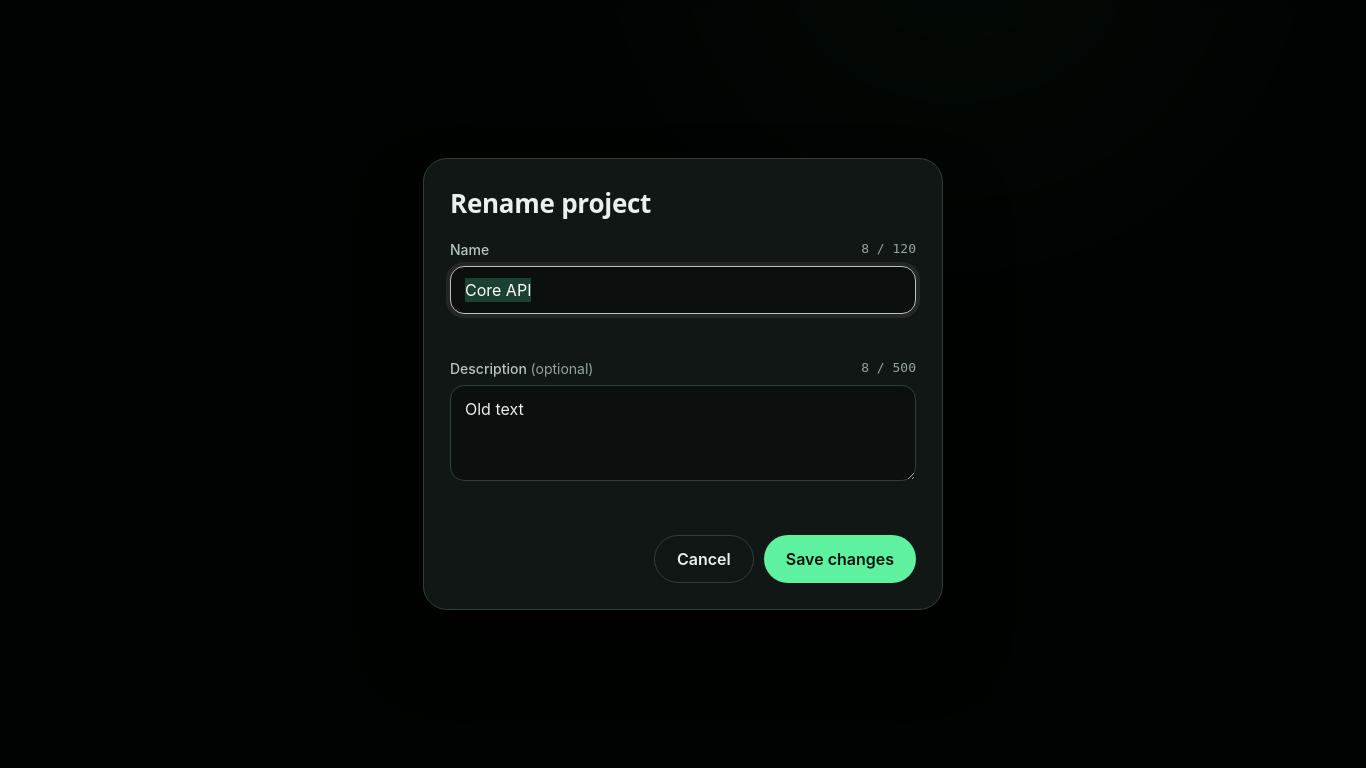
Test: RenameDialog › shows the required error and does not submit
Clear the field labelled "Name": (683, 290) [450, 266, 916, 314]
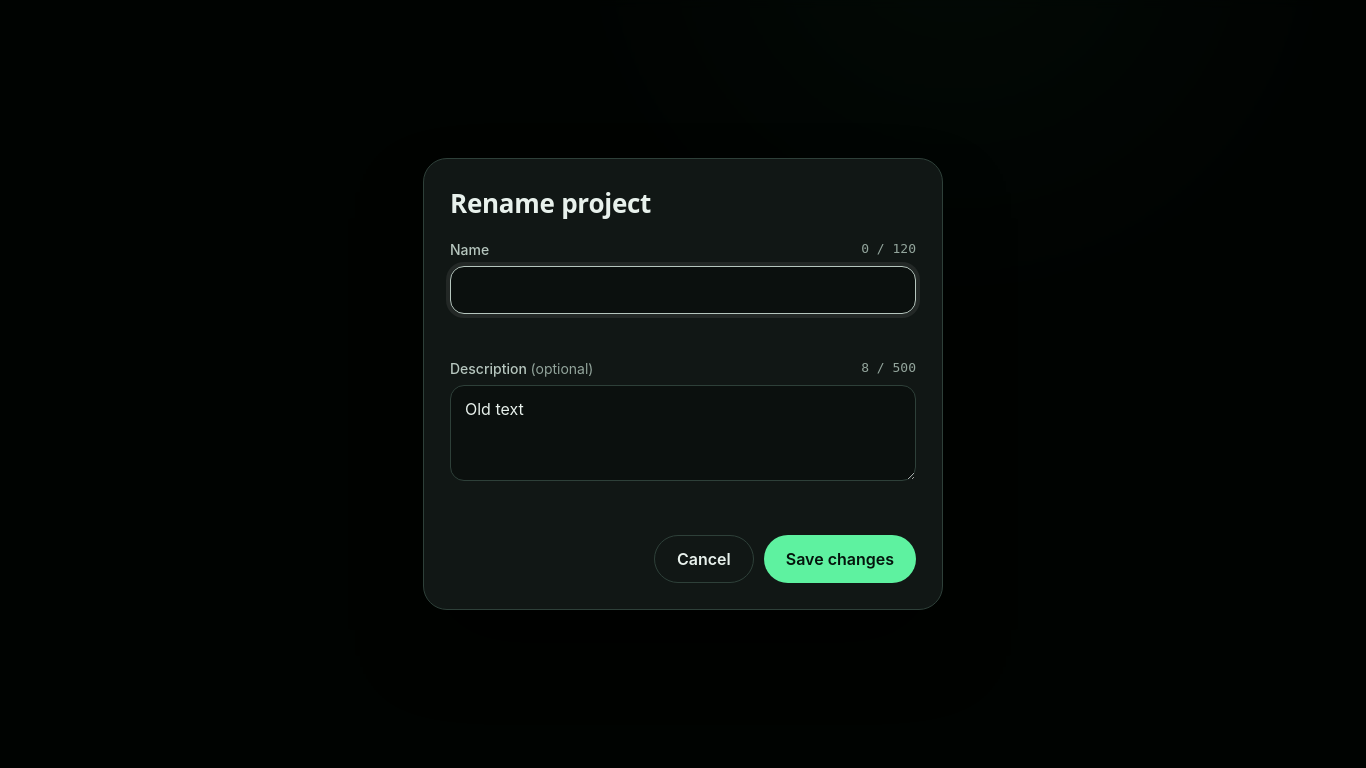
Click the button "Save changes": (840, 559) [764, 535, 916, 583]
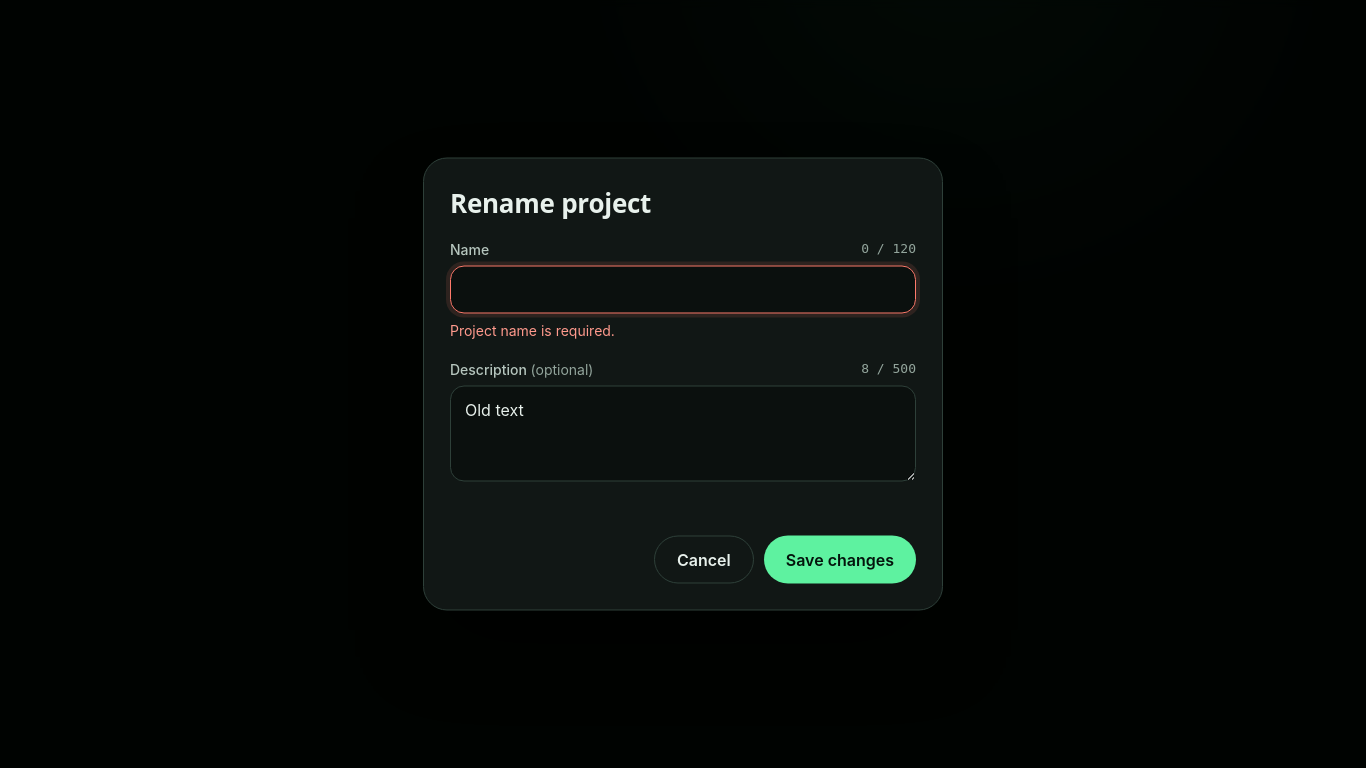
Now the text "Project name is required." is shown, box [450, 322, 615, 338]
